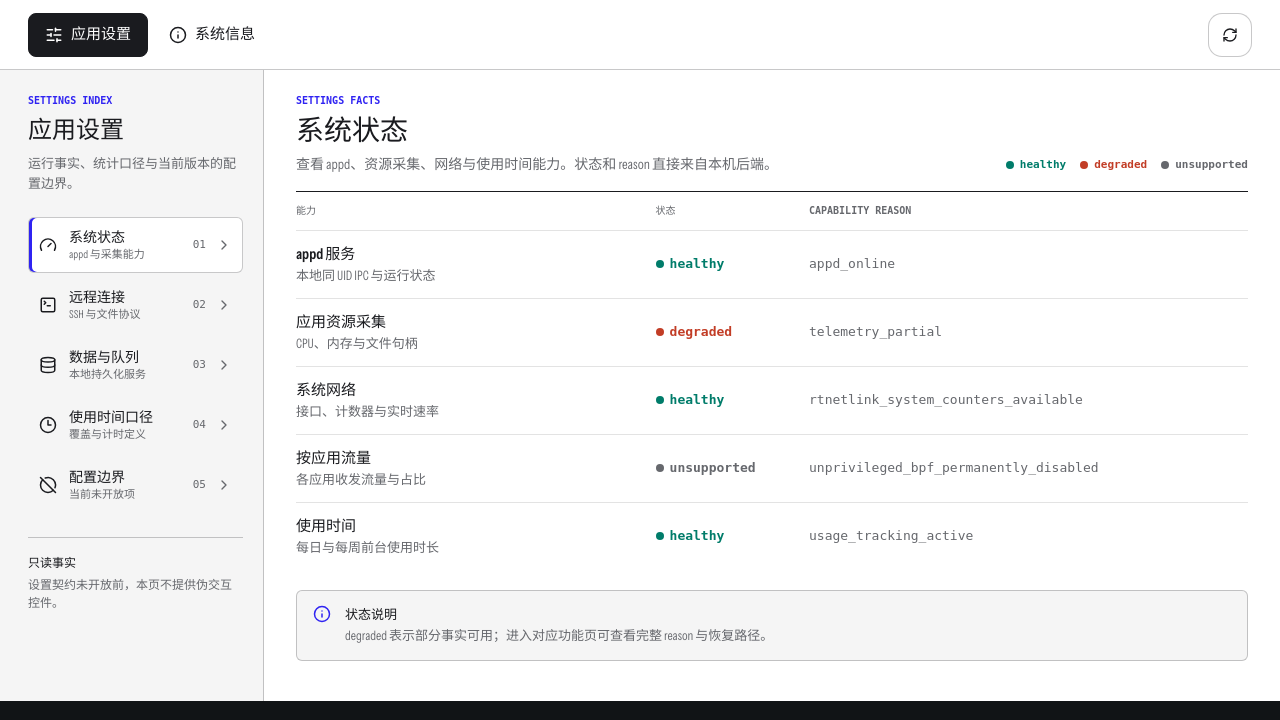
SettingsView › renders the usage scope facts from the backend summary
The width and height of the screenshot is (1280, 720).
Click the tab "使用时间口径 覆盖与计时定义 04".
click(136, 425)  # box top-left (28, 397), bottom-right (243, 453)
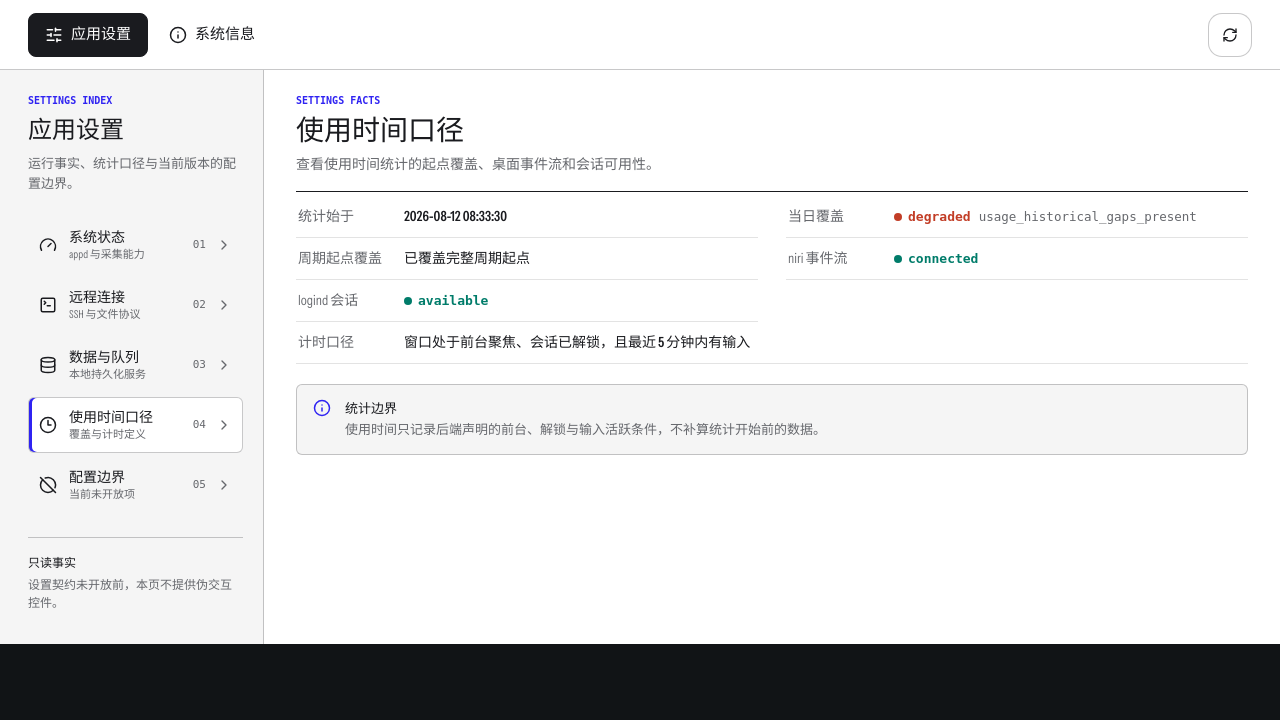
Expected: the text "统计始于" is shown, top-left (298, 207), bottom-right (354, 225)
Expected: the text "2026-08-12" is shown, top-left (404, 207), bottom-right (507, 225)
Expected: the text "窗口处于前台聚焦、会话已解锁，且最近 5 分钟内有输入" is shown, top-left (404, 332), bottom-right (750, 353)
